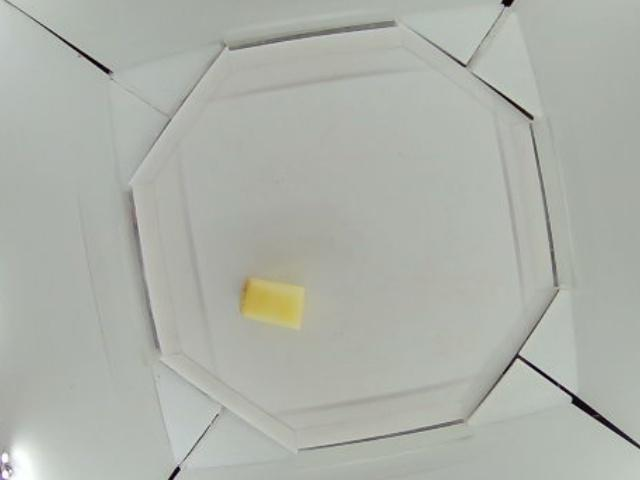Potato: (240, 280, 305, 325)
